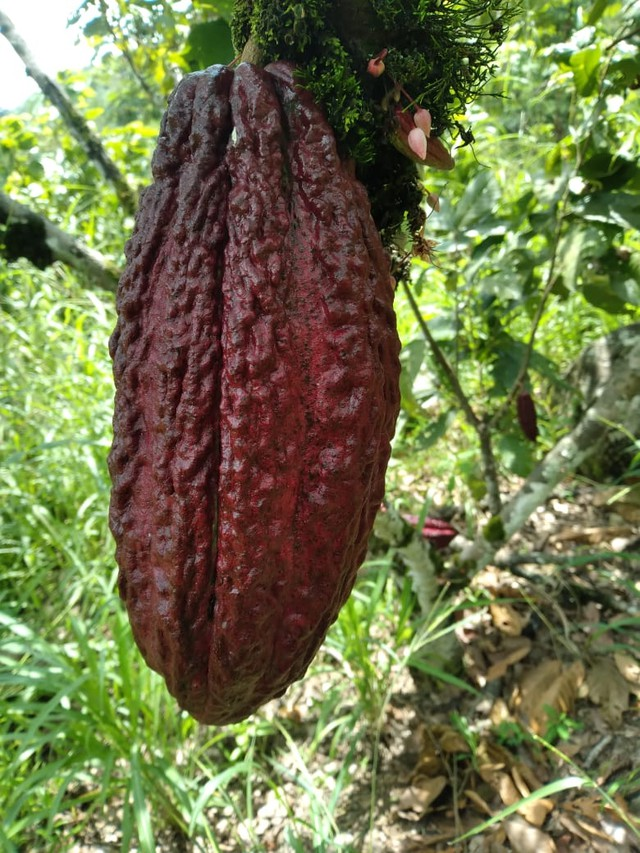Health: (68, 43, 410, 732)
